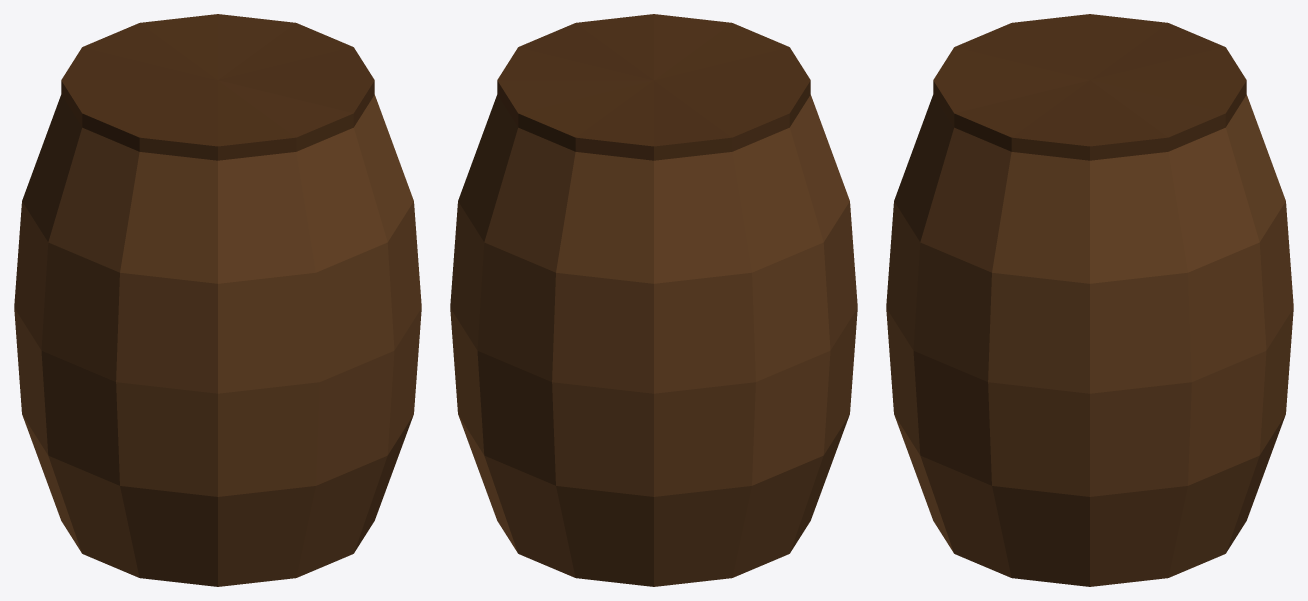
The model's file is p_barrel.glb.
The picture shows the model from 3 angles, left to right: view 1: azimuth 30°, elevation 25°; view 2: azimuth 150°, elevation 25°; view 3: azimuth 270°, elevation 25°; orthographic projection.
Parts seen in each view (by area): view 1: p_barrel; view 2: p_barrel; view 3: p_barrel.
Part boxes in pixels (x1,y1,x2,y2): p_barrel: (14,14,421,586); p_barrel: (450,14,857,586); p_barrel: (886,14,1293,586).
Size of the model in its own units: 0.52 by 0.62 by 0.52.
